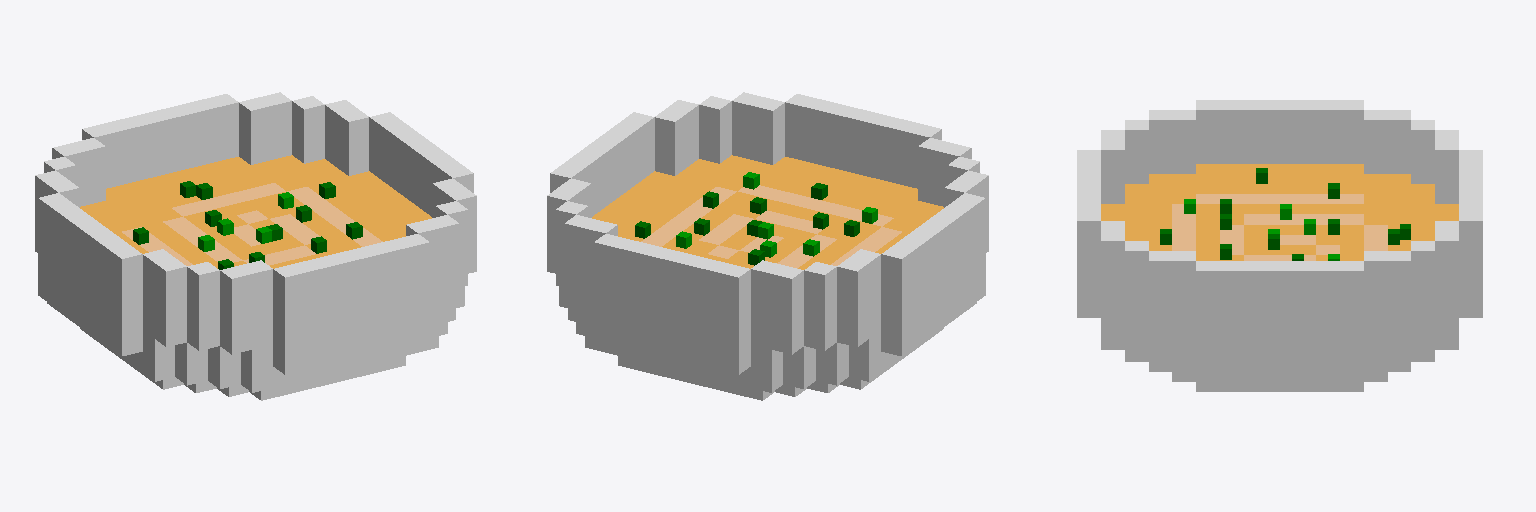
The picture shows the model from 3 angles: view 1: azimuth 30°, elevation 25°; view 2: azimuth 150°, elevation 25°; view 3: azimuth 270°, elevation 25°; orthographic projection.
Visible parts, largest first — view 1: object 1; view 2: object 1; view 3: object 1.
Boxes of the visible parts, box(x1,y1,x2,y2) form: object 1: box(35, 92, 476, 400); object 1: box(547, 92, 988, 400); object 1: box(1077, 100, 1482, 391).
Size of the model in its own units: 3.4 by 1.3 by 3.4.
1 materials, 1 textured.